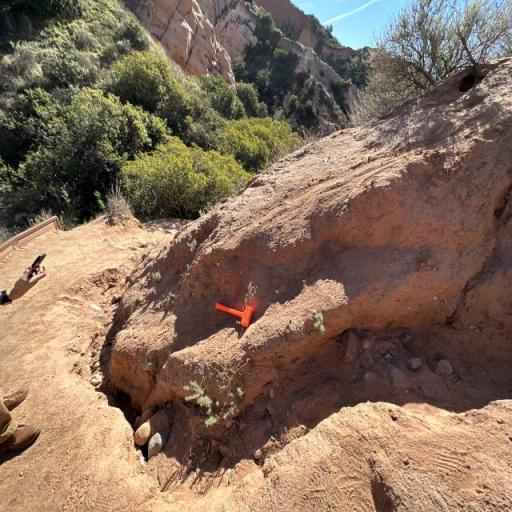mallet: (215, 302, 253, 328)
